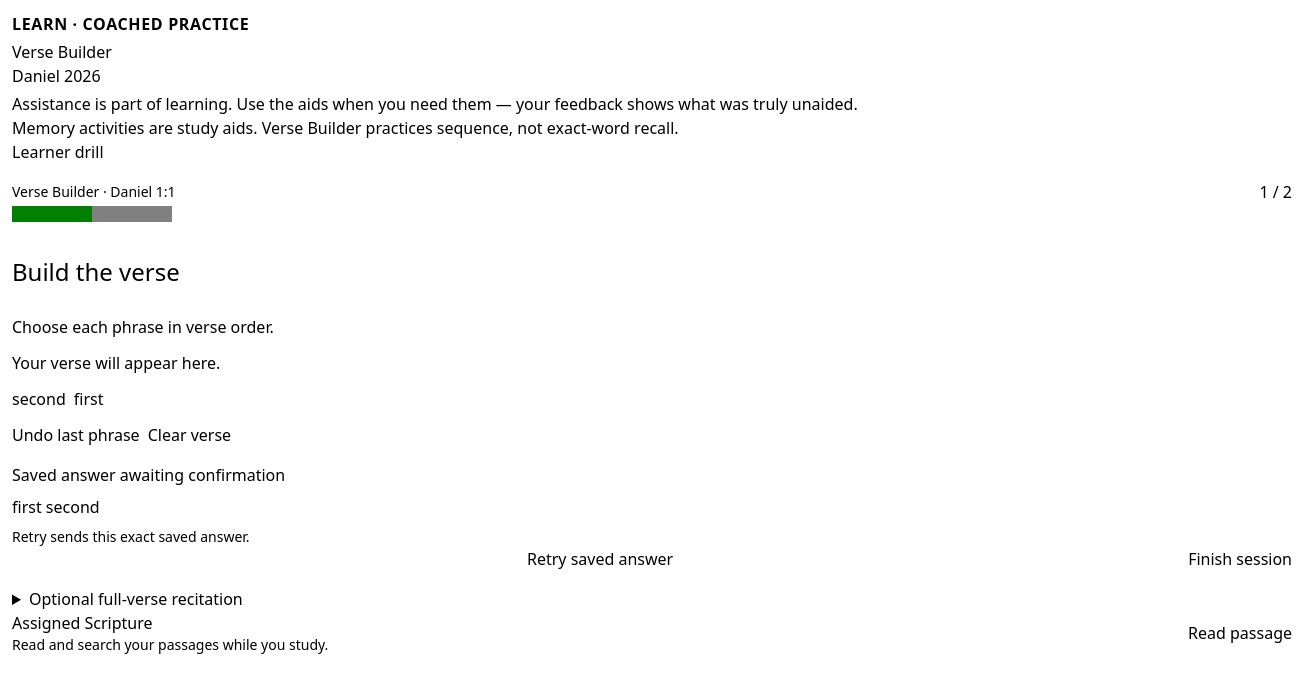
Test: Study submission recovery › shows the saved Verse Builder answer before retrying after refresh
Expected: the message with test id "pending-answer" shows "first second", [12, 496, 100, 518]
Click the button with test id "submit-answer": [600, 559] box [12, 547, 1188, 571]
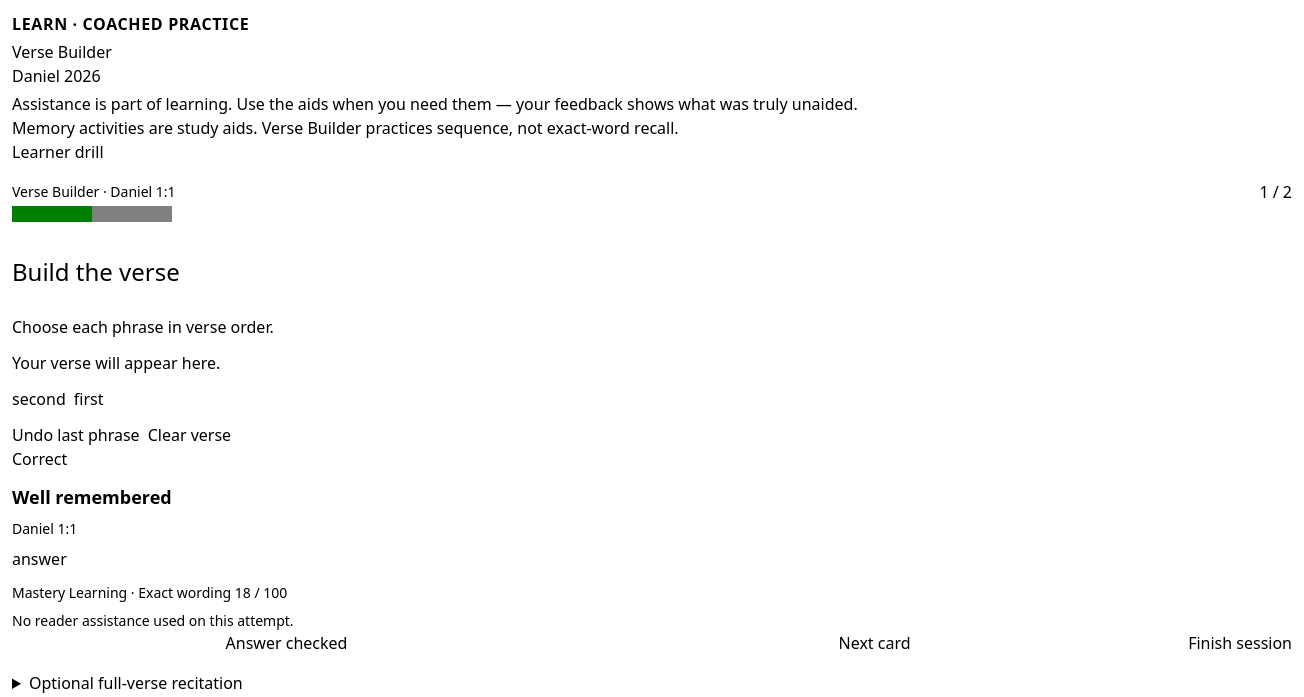
Result: the message with test id "challenge-feedback" is shown at [12, 448, 294, 630]
